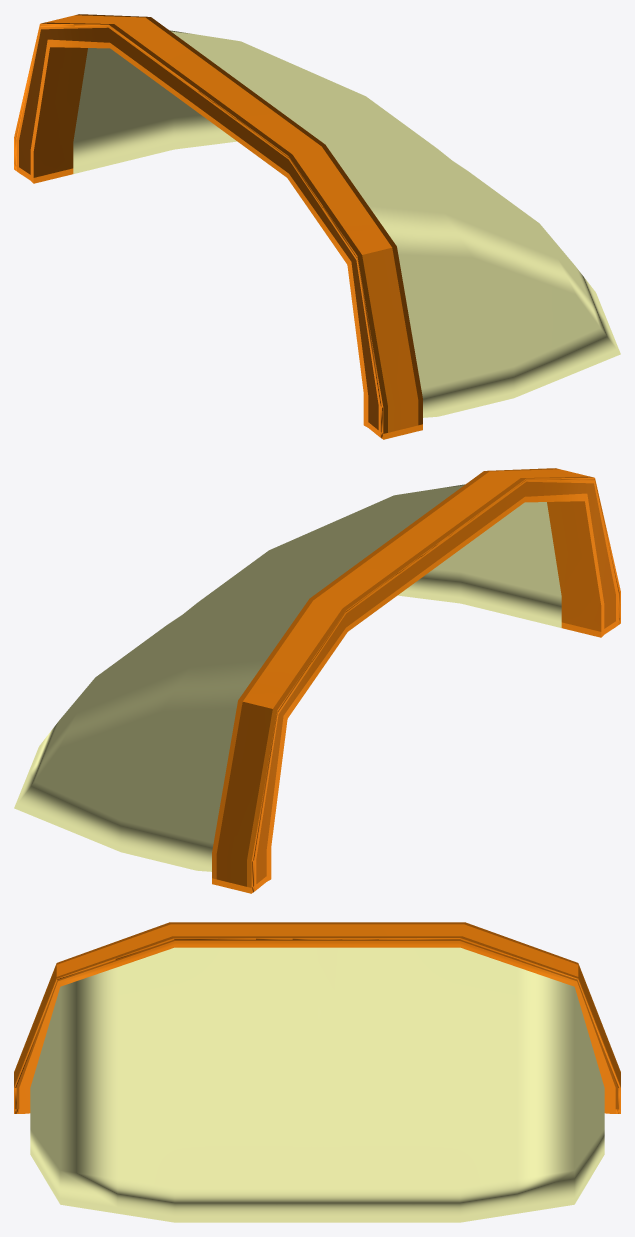
File: EspelhoCarro.fbx
The picture shows the model from 3 angles, top to bottom: view 1: azimuth 30°, elevation 25°; view 2: azimuth 150°, elevation 25°; view 3: azimuth 270°, elevation 25°; orthographic projection. The views are drawn at different scales.
Visible parts, largest first — view 1: EspelhoCarro; view 2: EspelhoCarro; view 3: EspelhoCarro.
Part boxes in pixels (x1,y1,x2,y2): EspelhoCarro: (14, 14, 620, 439); EspelhoCarro: (14, 468, 620, 893); EspelhoCarro: (14, 922, 620, 1222).
Bounding box in the file's own units: 40.98 × 27.01 × 84.46.
